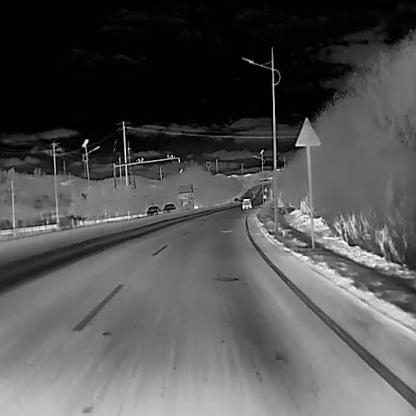car: (163, 201, 175, 213), (147, 204, 159, 215), (240, 197, 251, 208)
sign_danger: (290, 117, 325, 148)
